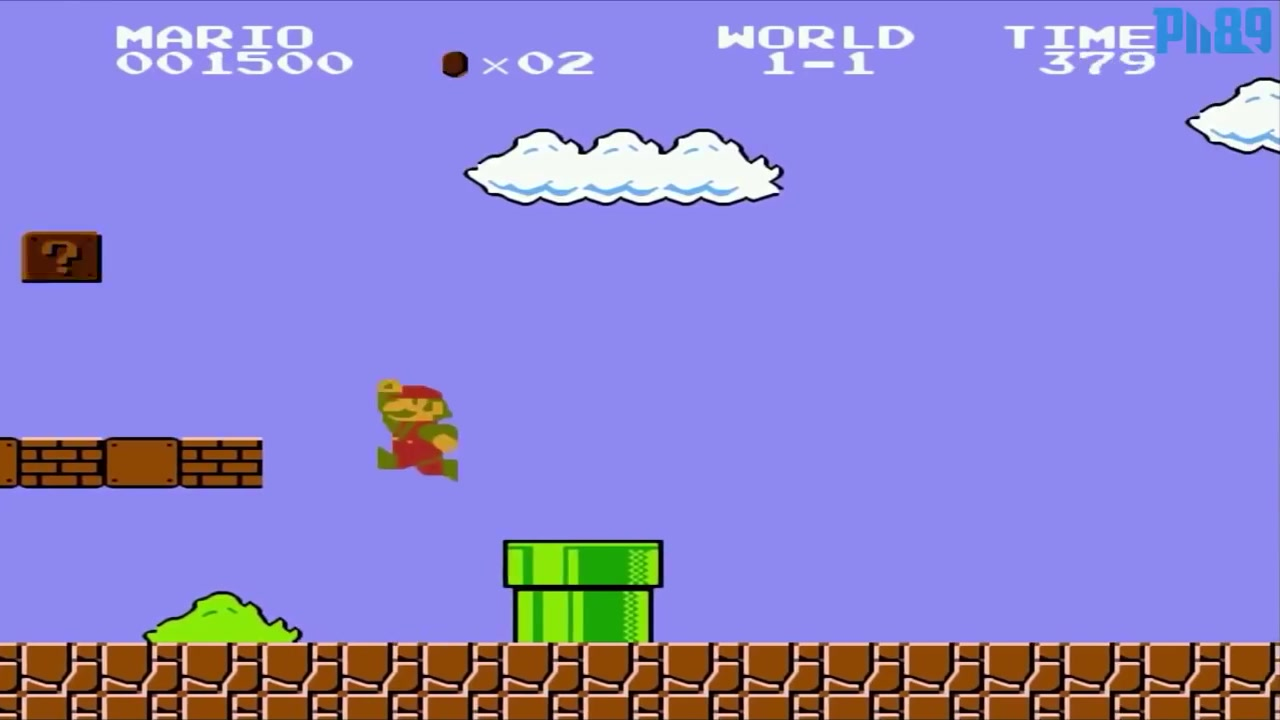mario: (368, 375, 475, 490)
